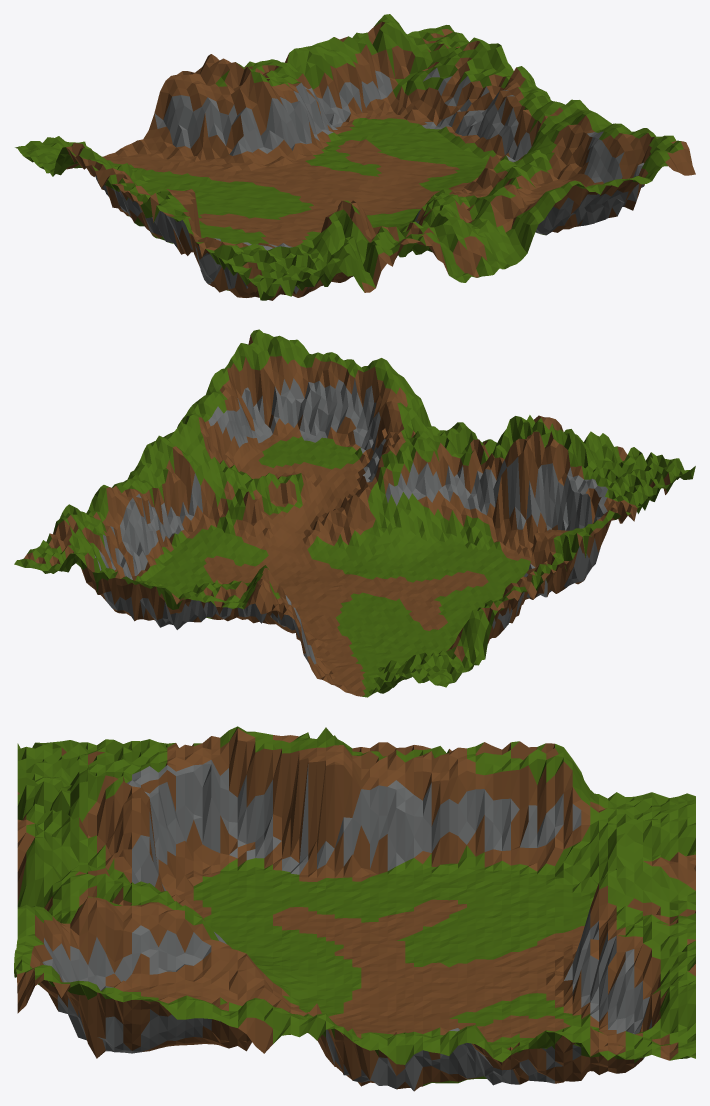
The model's file is Terrain.fbx.
The picture shows the model from 3 angles, top to bottom: view 1: azimuth 30°, elevation 25°; view 2: azimuth 150°, elevation 25°; view 3: azimuth 270°, elevation 25°; orthographic projection. The views are drawn at different scales.
Visible parts, largest first — view 1: Plane; view 2: Plane; view 3: Plane.
Part boxes in pixels (<box>): Plane: <box>15,14,695,300</box>; Plane: <box>14,329,695,697</box>; Plane: <box>14,726,695,1091</box>.
Bounding box in the file's own units: 1000 × 248 × 1005.
